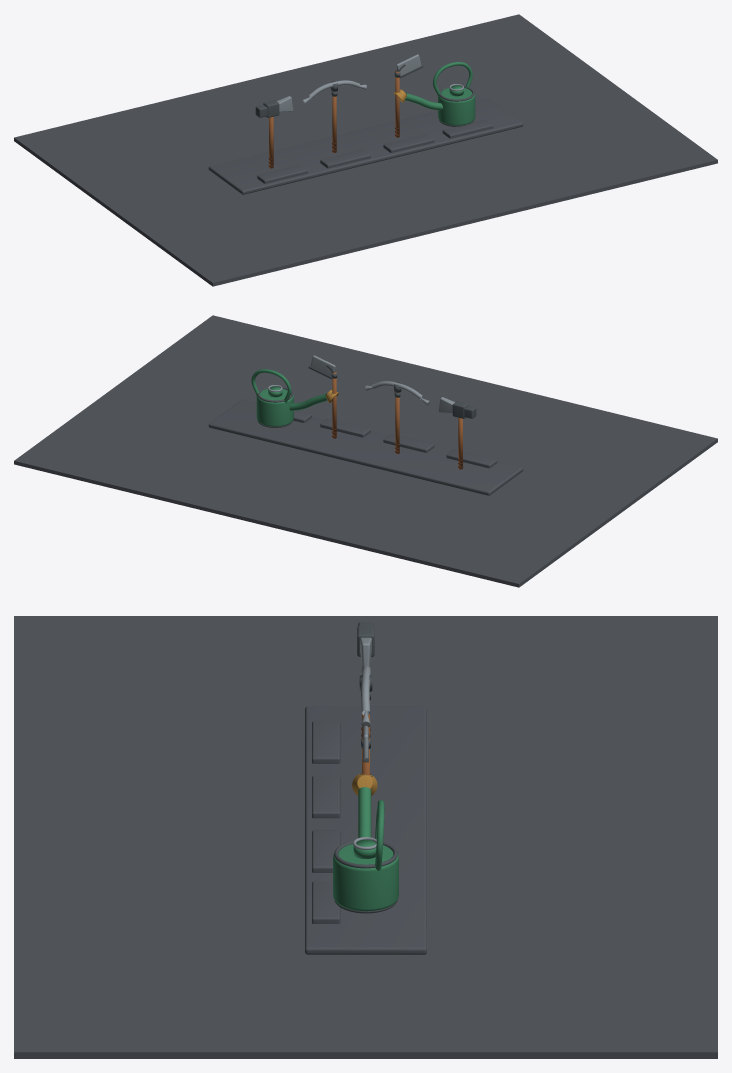
Rendered from tools_highpoly.glb.
3 renders of one model, top to bottom at view 1: azimuth 30°, elevation 25°; view 2: azimuth 150°, elevation 25°; view 3: azimuth 270°, elevation 25°, orthographic. The views are drawn at different scales.
Parts seen in each view (by area): view 1: Backdrop_Ground, Display_Plinth, WateringCan_Body, Tool_Base_0.55, Tool_Base_-0.55, Tool_Base_-1.65, Tool_Base_1.58; view 2: Backdrop_Ground, Display_Plinth, WateringCan_Body, Tool_Base_-0.55, Tool_Base_0.55, Tool_Base_-1.65; view 3: Backdrop_Ground, Display_Plinth, WateringCan_Body, Tool_Base_-0.55, Tool_Base_-1.65, Tool_Base_1.58, Tool_Base_0.55, WateringCan_Spout.
Boxes of the visible parts, x1,y1,x2,y2 form: Backdrop_Ground: [14, 14, 717, 286]; Display_Plinth: [208, 98, 523, 194]; WateringCan_Body: [438, 88, 475, 125]; Tool_Base_0.55: [383, 134, 434, 152]; Tool_Base_-0.55: [320, 149, 370, 168]; Tool_Base_-1.65: [257, 165, 307, 183]; Tool_Base_1.58: [442, 119, 493, 138]; Backdrop_Ground: [14, 315, 717, 587]; Display_Plinth: [208, 399, 523, 495]; WateringCan_Body: [256, 389, 293, 426]; Tool_Base_-0.55: [383, 434, 434, 452]; Tool_Base_0.55: [320, 418, 370, 437]; Tool_Base_-1.65: [446, 449, 497, 468]; Backdrop_Ground: [14, 616, 717, 1058]; Display_Plinth: [305, 706, 426, 954]; WateringCan_Body: [333, 844, 398, 911]; Tool_Base_-0.55: [312, 775, 340, 818]; Tool_Base_-1.65: [312, 721, 340, 763]; Tool_Base_1.58: [312, 881, 340, 923]; Tool_Base_0.55: [312, 830, 340, 872]; WateringCan_Spout: [358, 787, 371, 837].
Size of the model in its own units: 8.8 by 1.42 by 6.
